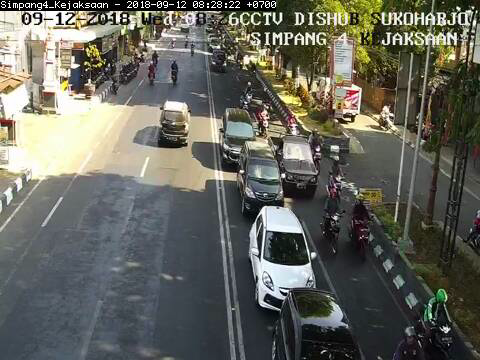motor: (421, 288, 455, 360), (347, 191, 373, 261), (321, 187, 345, 257), (328, 155, 345, 201)
